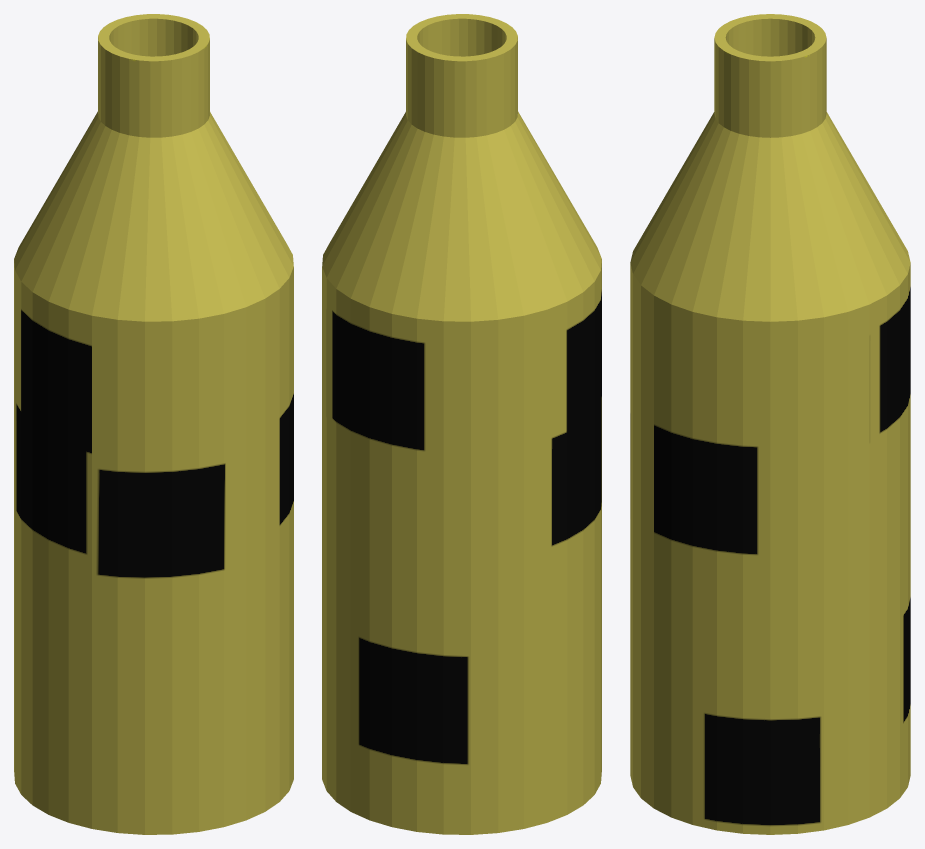
Rendered from falling bottle.glb.
3 renders of one model, left to right at view 1: azimuth 30°, elevation 25°; view 2: azimuth 150°, elevation 25°; view 3: azimuth 270°, elevation 25°, orthographic.
Parts seen in each view (by area): view 1: Cylinder.003; view 2: Cylinder.003; view 3: Cylinder.003.
Boxes of the visible parts, x1,y1,x2,y2 form: Cylinder.003: [14, 14, 293, 834]; Cylinder.003: [322, 14, 601, 834]; Cylinder.003: [630, 14, 910, 834].
Size of the model in its own units: 3.92 by 11.39 by 3.92.
1 material, 1 textured.
